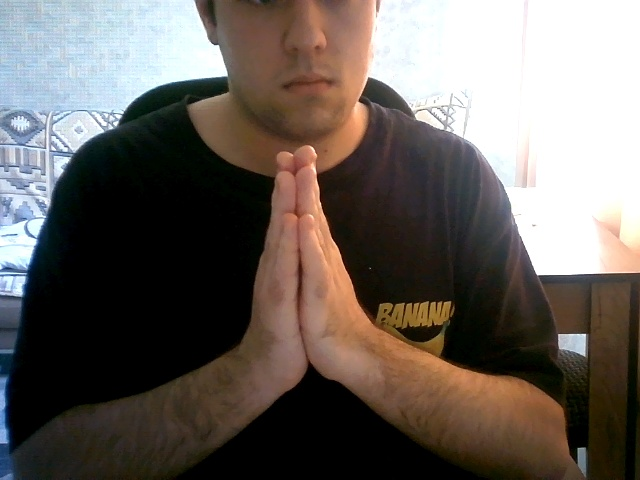please: (230, 130, 391, 418)
